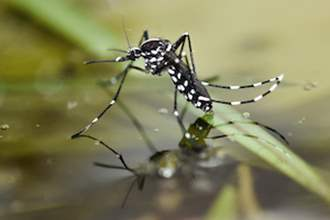mosquito: (62, 26, 287, 141)
